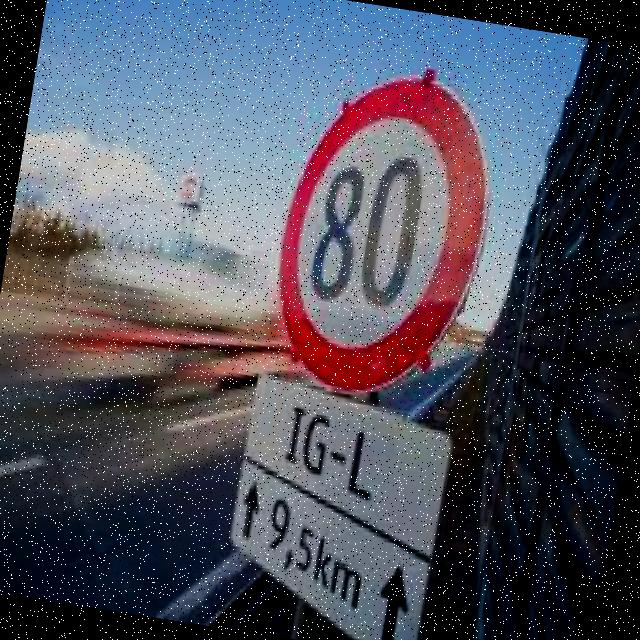Ograniczenie predkosci do 80: (275, 94, 480, 371)
